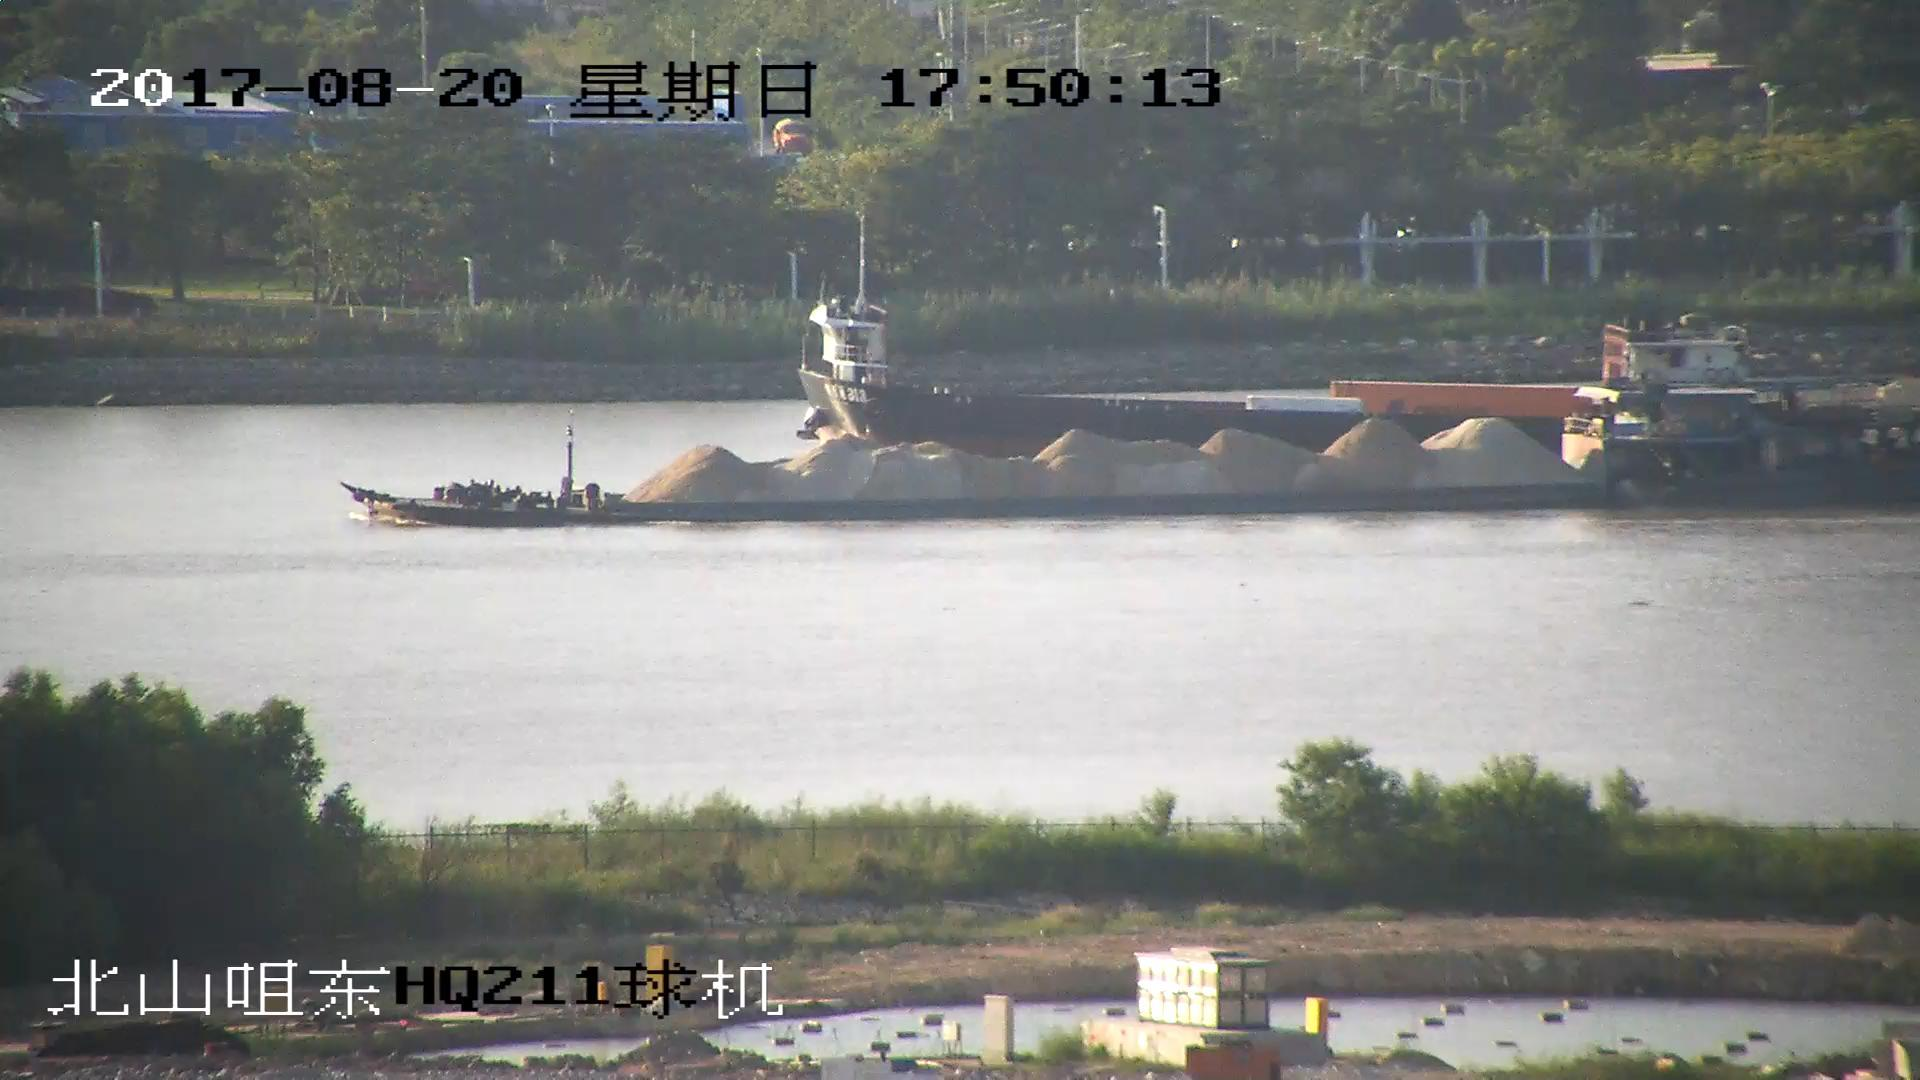Ship: (803, 204, 1749, 444), (360, 404, 1920, 524)
